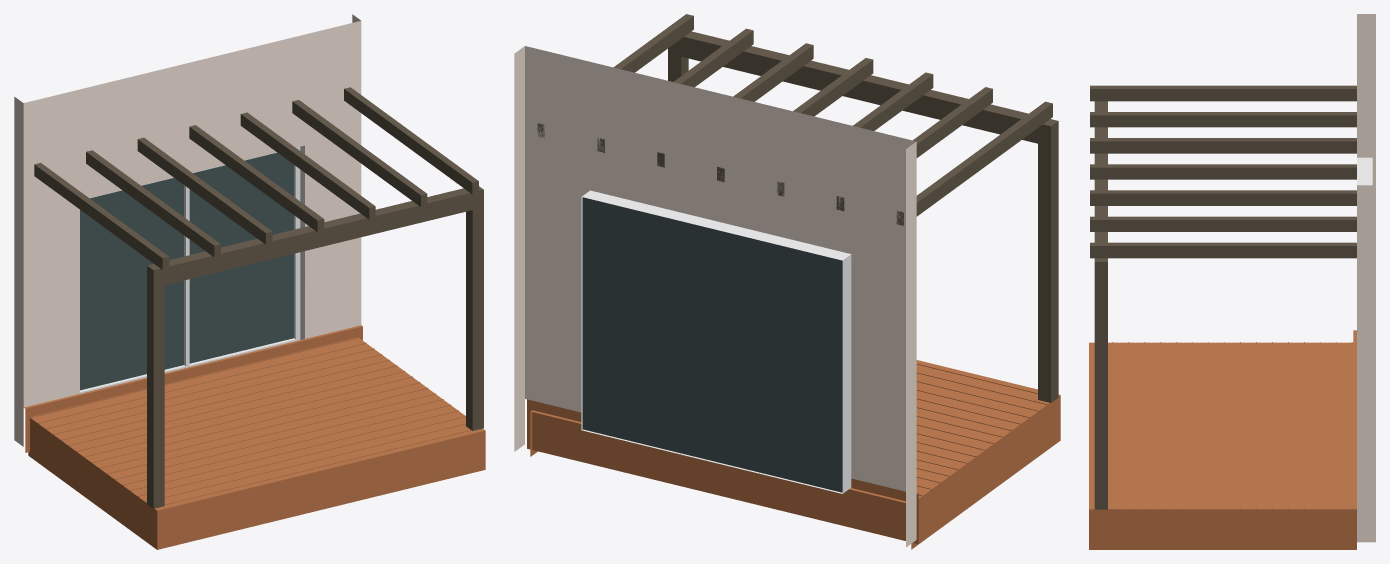
The model's file is base-stair3_close.fbx.
The picture shows the model from 3 angles, left to right: view 1: azimuth 30°, elevation 25°; view 2: azimuth 150°, elevation 25°; view 3: azimuth 270°, elevation 25°; orthographic projection. The views are drawn at different scales.
Visible parts, largest first — view 1: a2000s2/200/base-stair_close; view 2: a2000s2/200/base-stair_close; view 3: a2000s2/200/base-stair_close.
Part boxes in pixels (left/top/right/bottom): a2000s2/200/base-stair_close: left=14, top=14, right=485, bottom=549; a2000s2/200/base-stair_close: left=514, top=14, right=1060, bottom=549; a2000s2/200/base-stair_close: left=1089, top=14, right=1375, bottom=549.
Size of the model in its own units: 3.6 by 3.6 by 2.55.
